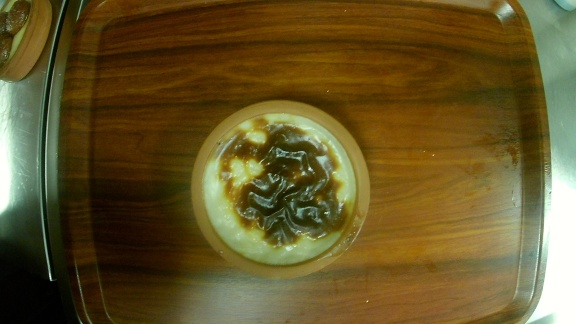sutlac: (190, 99, 372, 277)
